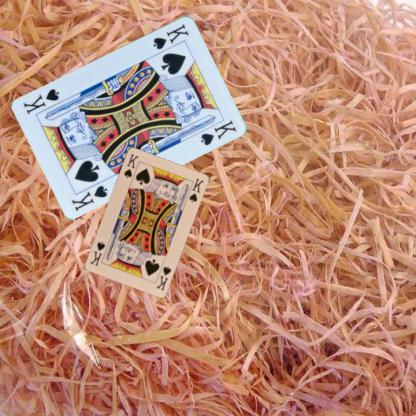Ks: (69, 182, 109, 212), (150, 21, 191, 50), (121, 151, 140, 179), (153, 263, 172, 291)
